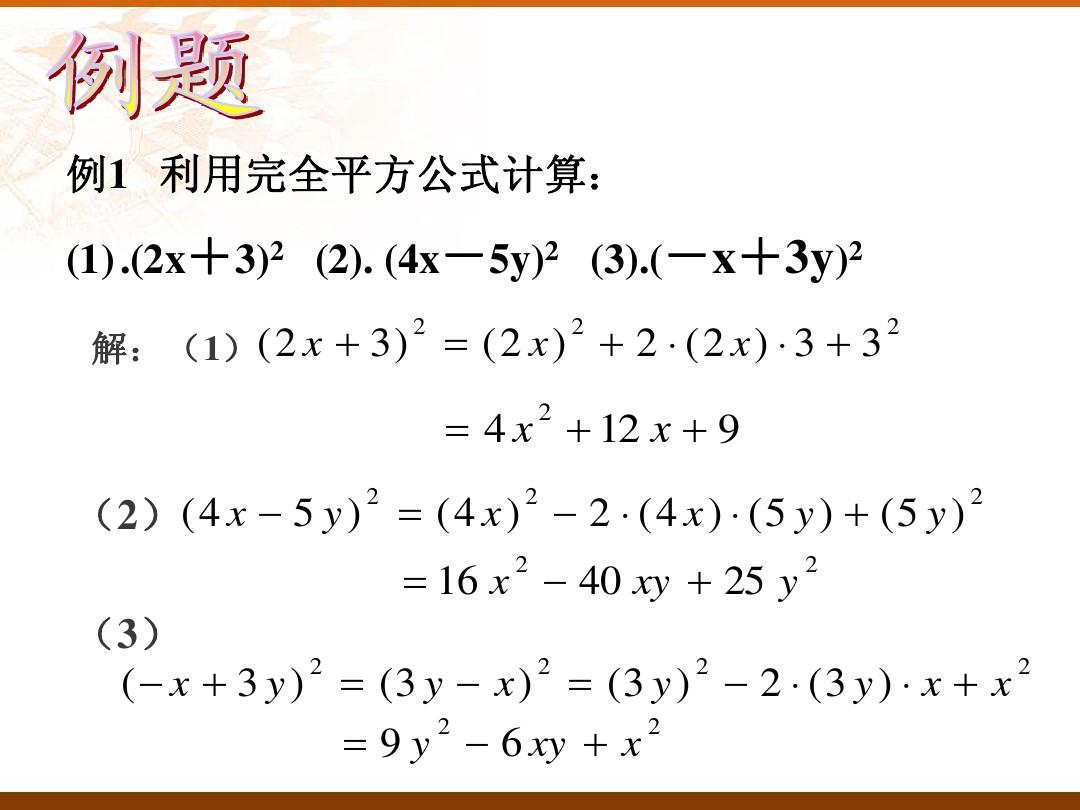square: (846, 236, 873, 264), (519, 484, 543, 512), (263, 235, 285, 264), (544, 237, 567, 260), (433, 714, 456, 737), (533, 399, 552, 426), (408, 316, 431, 338), (304, 655, 325, 679), (363, 485, 382, 510), (883, 315, 905, 336), (511, 552, 530, 576), (693, 655, 712, 678), (644, 713, 662, 737), (801, 553, 821, 574), (1015, 654, 1032, 678), (970, 485, 986, 510), (534, 656, 552, 678), (569, 314, 587, 336)
